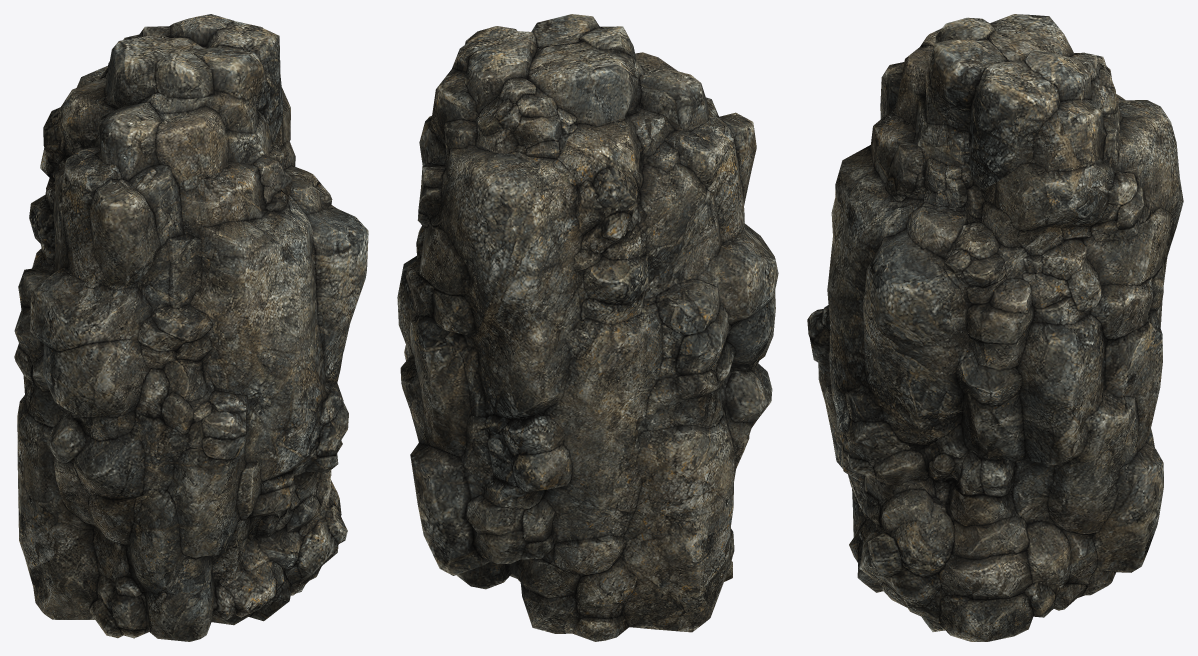
The model's file is stone.fbx.
3 renders of one model, left to right at view 1: azimuth 30°, elevation 25°; view 2: azimuth 150°, elevation 25°; view 3: azimuth 270°, elevation 25°, orthographic. The views are drawn at different scales.
Parts seen in each view (by area): view 1: RockGroup5_LOD0(Clone); view 2: RockGroup5_LOD0(Clone); view 3: RockGroup5_LOD0(Clone).
Boxes of the visible parts, bbox=[...] form: RockGroup5_LOD0(Clone): bbox=[14, 14, 368, 641]; RockGroup5_LOD0(Clone): bbox=[397, 14, 778, 641]; RockGroup5_LOD0(Clone): bbox=[807, 14, 1183, 641].
Bounding box in the file's own units: 2067 × 3567 × 2135.
